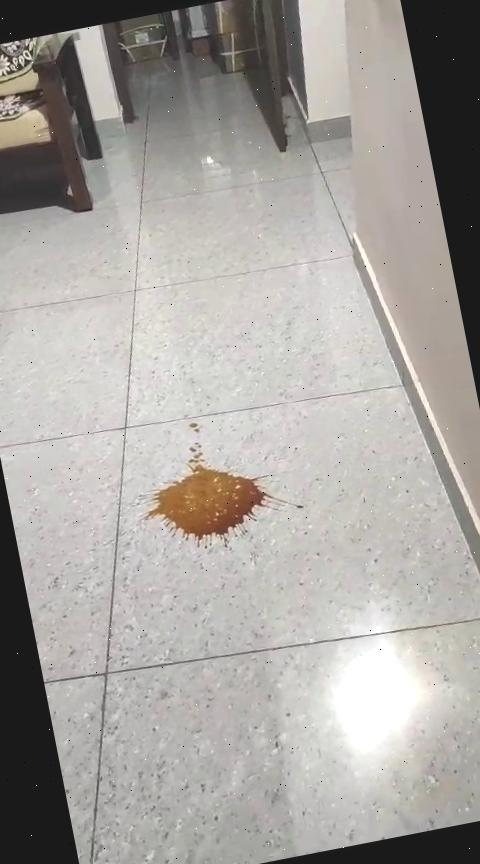dirty_floor: (128, 403, 305, 554)
